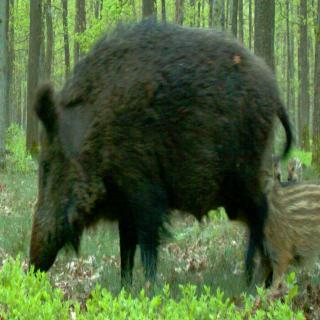Pig: (20, 17, 289, 293)
